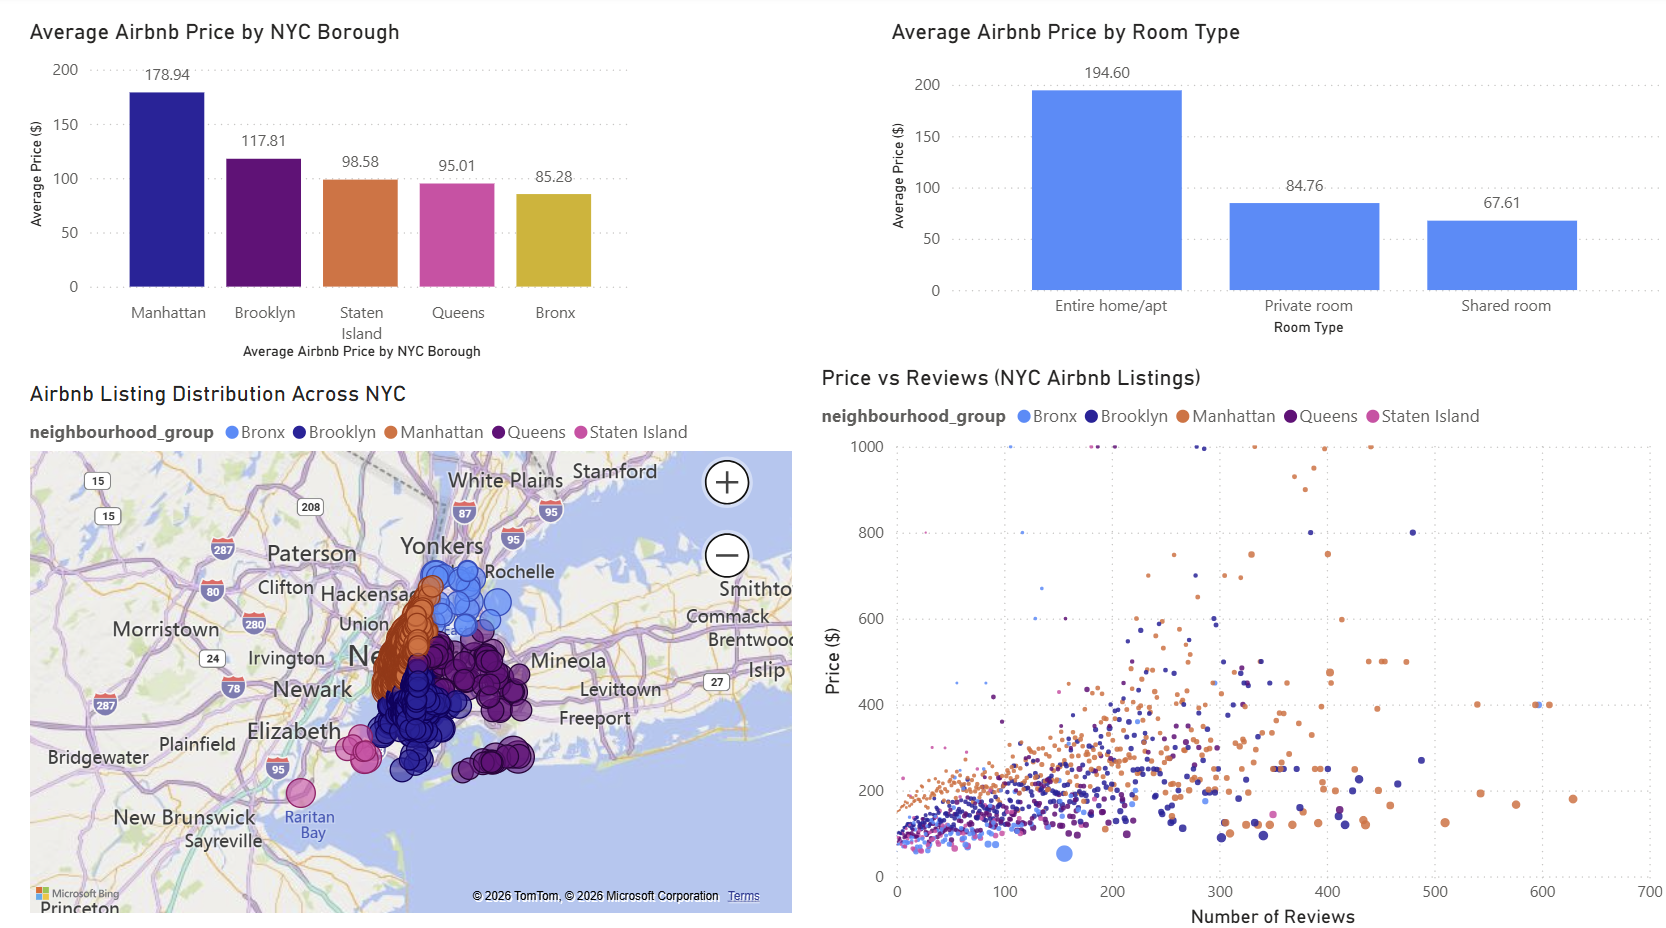

This screenshot's page, from the dashboard's own definition file:
{"tool":"powerbi","page":{"name":"Page 1","canvas":[1280,720],"ordinal":0},"visuals":[{"type":"clusteredColumnChart","title":"Average Airbnb Price by NYC Borough","fields":{"Y":["Avg(cleaned_data.price)"],"Category":["cleaned_data.neighbourhood_group"]},"box":[19.9,19.9,503.7,246.5],"z":0},{"type":"map","title":"Airbnb Listing Distribution Across NYC","fields":{"X":["cleaned_data.longitude"],"Y":["cleaned_data.latitude"],"Size":["Sum(cleaned_data.price)"],"Series":["cleaned_data.neighbourhood_group"]},"box":[33.7,284.8,606.3,434.8],"z":1000},{"type":"clusteredColumnChart","title":"Average Airbnb Price by Room Type","fields":{"Category":["cleaned_data.room_type"],"Y":["Avg(cleaned_data.price)"]},"box":[708.9,19.9,545.1,226.6],"z":1001},{"type":"scatterChart","title":"Price vs Reviews (NYC Airbnb Listings)","fields":{"X":["cleaned_data.number_of_reviews"],"Y":["Avg(cleaned_data.price)"],"Size":["Avg(cleaned_data.reviews_per_month)"],"Series":["cleaned_data.neighbourhood_group"]},"box":[682.9,284.8,597.1,436.4],"z":1002}]}

Visuals, with their boxes in screenshot pixels (x1, y1, x2, y2), scaled from the page's 1280x720 canvas onto the 1666x928 screenshot:
"Average Airbnb Price by NYC Borough" clusteredColumnChart: (26,26,681,343)
"Airbnb Listing Distribution Across NYC" map: (44,367,833,927)
"Average Airbnb Price by Room Type" clusteredColumnChart: (923,26,1632,318)
"Price vs Reviews (NYC Airbnb Listings)" scatterChart: (889,367,1665,927)
